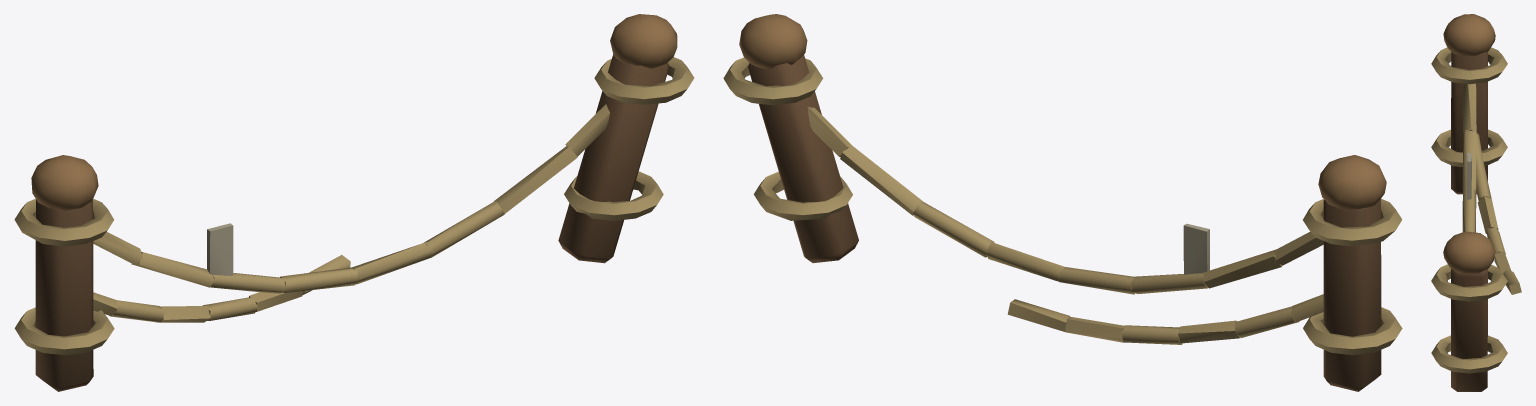
File: rope_fence_b_lod1.glb
3 views of the same model, side by side, from view 1: azimuth 30°, elevation 25°; view 2: azimuth 150°, elevation 25°; view 3: azimuth 270°, elevation 25° (orthographic). The views are drawn at different scales.
Visible parts, largest first — view 1: Surface.001; view 2: Surface.001; view 3: Surface.001.
Part boxes in pixels (bbox=[...]): Surface.001: bbox=[14, 14, 694, 391]; Surface.001: bbox=[723, 14, 1402, 391]; Surface.001: bbox=[1431, 14, 1521, 391].
Bounding box in the file's own units: 3.85 × 1.26 × 0.5919.
